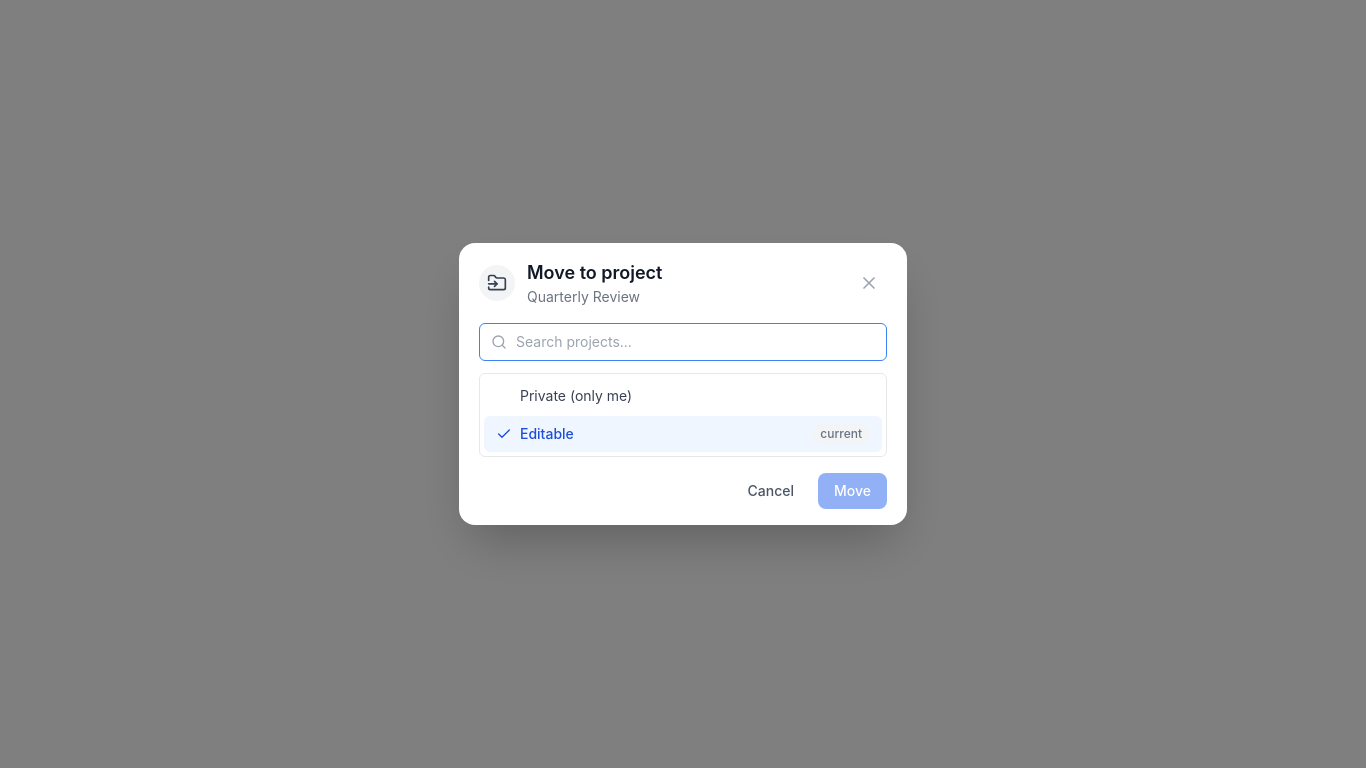
Test: MoveToProjectModal selection and confirm › marks the current location and disables Move until the selection changes
Expected: the button "Editable current" is shown, x1=484 y1=416 x2=882 y2=452
Expected: the button "Move" is disabled, x1=818 y1=473 x2=887 y2=509
Click the button "Private (only me)" at (576, 396), box x1=484 y1=378 x2=882 y2=414
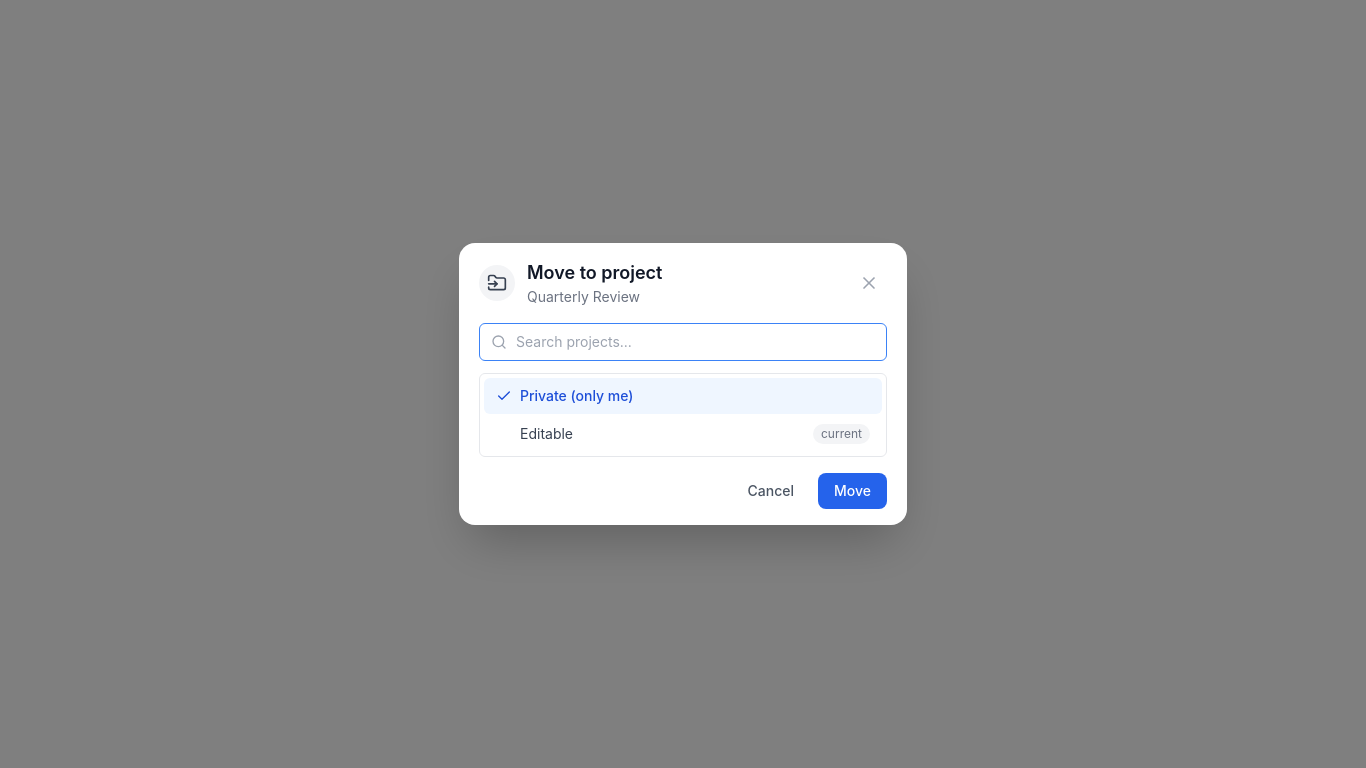
Expected: the button "Move" is enabled, x1=818 y1=473 x2=887 y2=509
